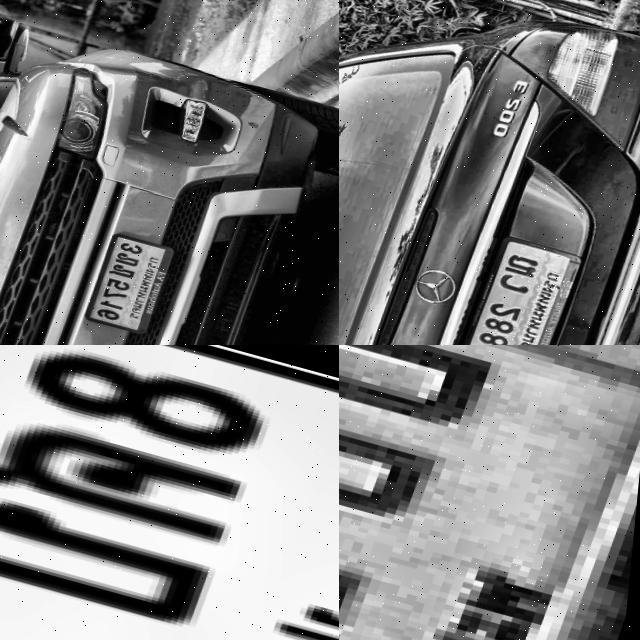license-plate: (0, 345, 339, 640), (339, 345, 640, 640), (456, 233, 590, 345), (87, 230, 187, 339)
